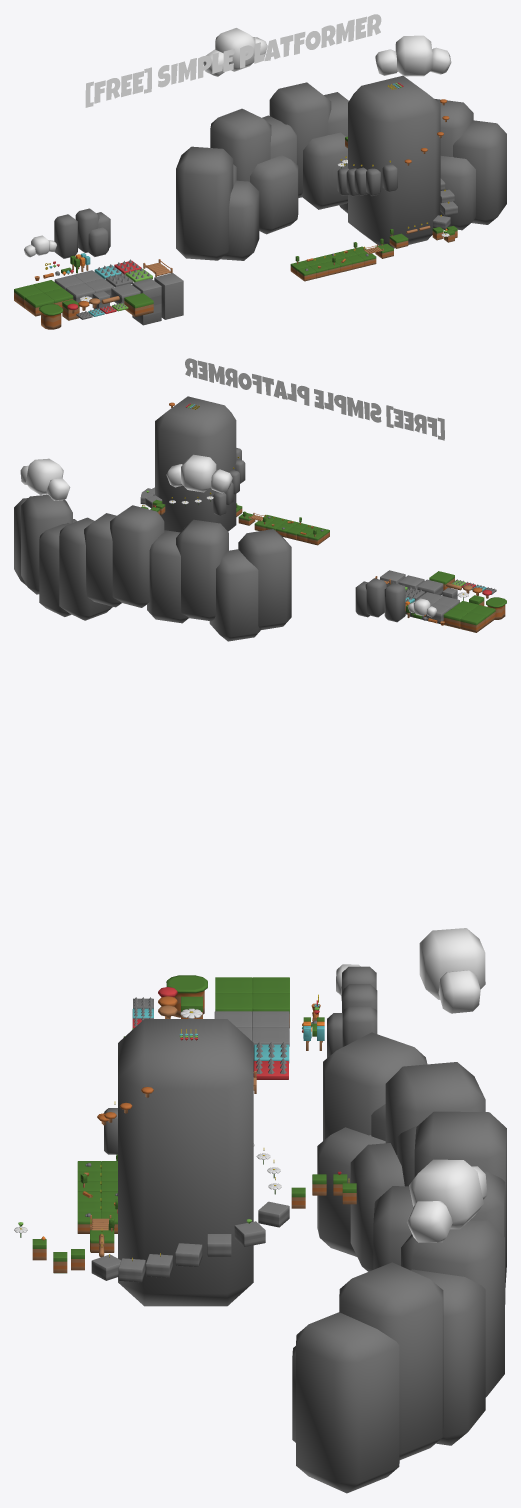
Rendered from free_simple_cartoon_platformer_pack.glb.
The picture shows the model from 3 angles, top to bottom: view 1: azimuth 30°, elevation 25°; view 2: azimuth 150°, elevation 25°; view 3: azimuth 270°, elevation 25°; orthographic projection. The views are drawn at different scales.
Visible parts, largest first — view 1: Quick_ExampleLevel, Text, Background_Bundle_Mountains, 2x2_Grass_Platform, 2x2_Stone_Platform, Stone_Platform_0, Background_Mountains, Stone_Platform_3.001, Small_Grass_Platform2, Grass_Platform_0, Background_Clouds, Stone_Platform_3.002; view 2: Quick_ExampleLevel, Text, 2x2_Grass_Platform, Background_Bundle_Mountains, Background_Mountains, 2x2_Stone_Platform, Background_Clouds; view 3: Quick_ExampleLevel, 2x2_Grass_Platform, Background_Bundle_Mountains, 2x2_Stone_Platform, Grass_Platform_0.
Boxes of the visible parts, x1,y1,x2,y2 form: Quick_ExampleLevel: (176,28,506,281); Text: (85,14,381,107); Background_Bundle_Mountains: (75,208,110,256); 2x2_Grass_Platform: (14,280,73,316); 2x2_Stone_Platform: (54,270,113,303); Stone_Platform_0: (154,273,183,319); Background_Mountains: (54,214,77,258); Stone_Platform_3.001: (132,278,161,325); Small_Grass_Platform2: (124,293,153,316); Grass_Platform_0: (39,304,63,329); Background_Clouds: (24,235,56,257); Stone_Platform_3.002: (111,283,140,303); Quick_ExampleLevel: (14,396,329,641); Text: (185,358,444,440); 2x2_Grass_Platform: (443,601,495,632); Background_Bundle_Mountains: (355,578,386,617); Background_Mountains: (384,583,405,622); 2x2_Stone_Platform: (409,592,459,624); Background_Clouds: (408,598,436,617); Quick_ExampleLevel: (14,928,506,1493); 2x2_Grass_Platform: (215,977,289,1027); Background_Bundle_Mountains: (327,984,377,1057); 2x2_Stone_Platform: (214,1011,289,1061); Grass_Platform_0: (166,975,207,1017).
Bounding box in the file's own units: 53.83 × 26.56 × 26.36.
